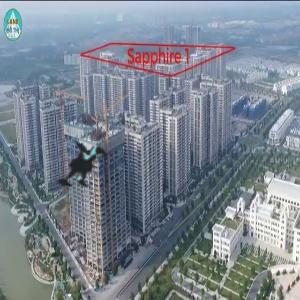drone: (27, 111, 138, 222)
